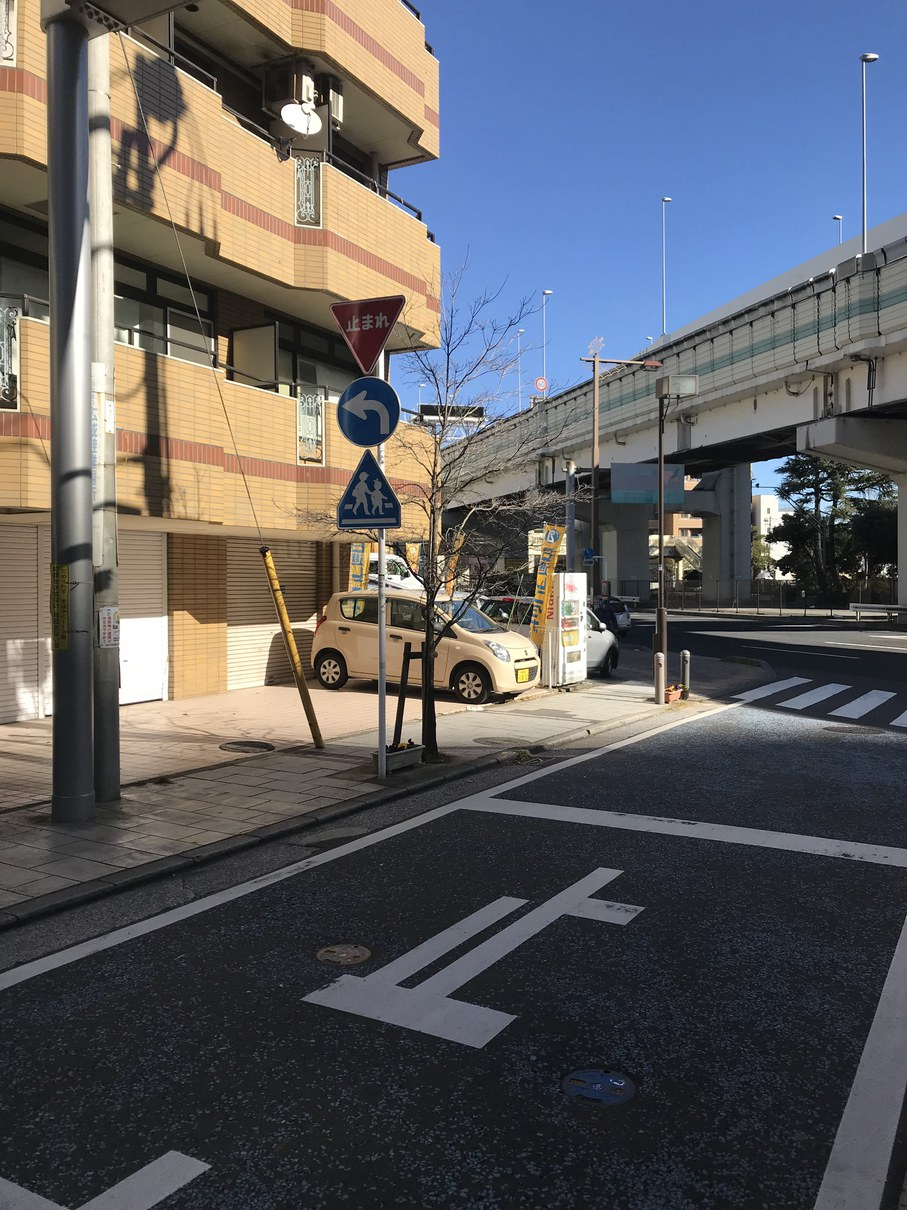stop_sign: (325, 293, 406, 376)
